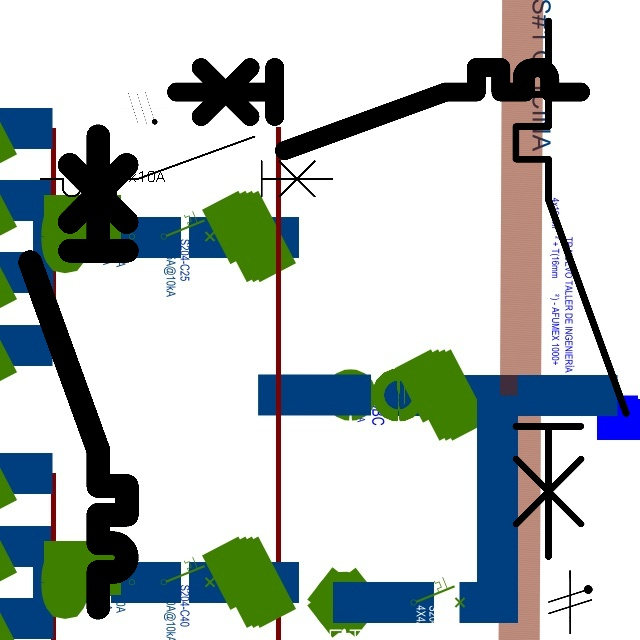interruptor_termomagnetico: (502, 7, 640, 570), (18, 124, 139, 620), (166, 57, 591, 161), (33, 129, 340, 204)
